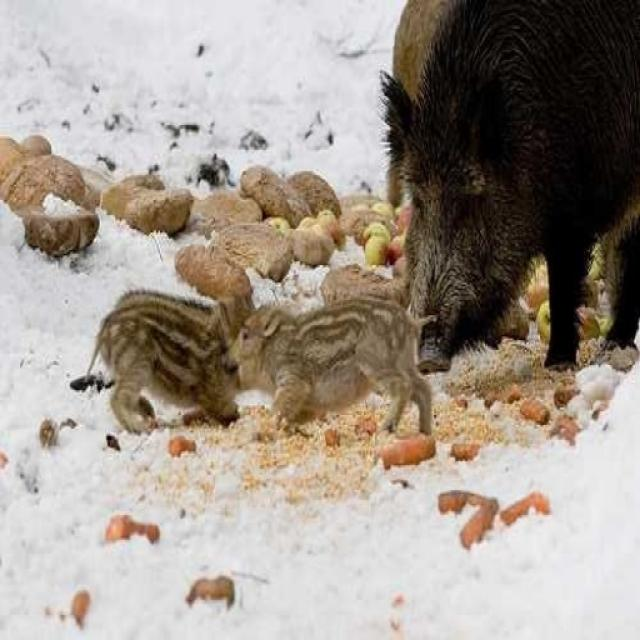pig: (360, 0, 640, 387), (218, 290, 435, 448), (93, 283, 247, 449)
